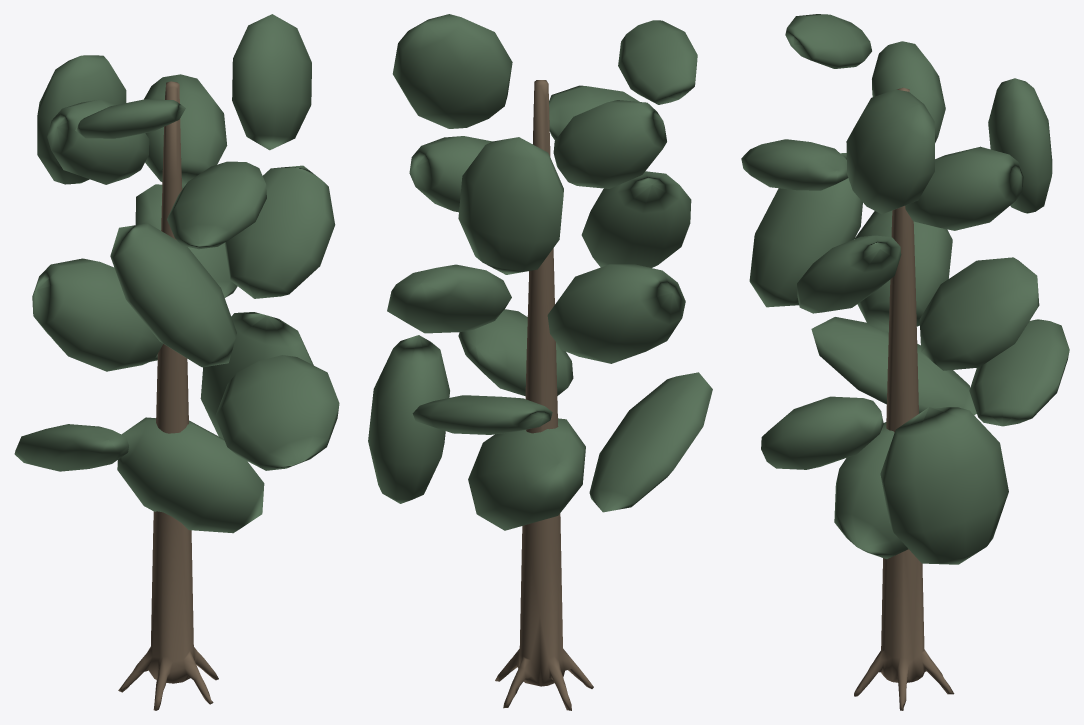
The model's file is Genevrier_0_Niveau2.fbx.
3 renders of one model, left to right at view 1: azimuth 30°, elevation 25°; view 2: azimuth 150°, elevation 25°; view 3: azimuth 270°, elevation 25°, orthographic.
Parts seen in each view (by area): view 1: Genevrier_0_Niveau2_Jeu; view 2: Genevrier_0_Niveau2_Jeu; view 3: Genevrier_0_Niveau2_Jeu.
Part boxes in pixels (<box>): Genevrier_0_Niveau2_Jeu: <box>14,14,339,710</box>; Genevrier_0_Niveau2_Jeu: <box>368,14,712,710</box>; Genevrier_0_Niveau2_Jeu: <box>741,14,1069,710</box>.
Size of the model in its own units: 68.32 by 142 by 66.08.
